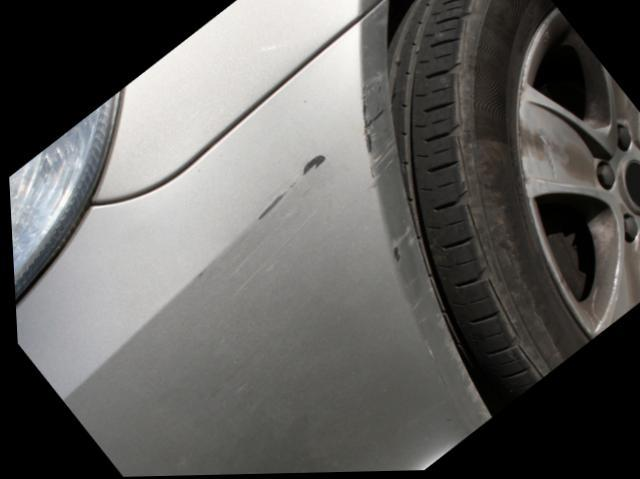scratch: (187, 69, 424, 293)
